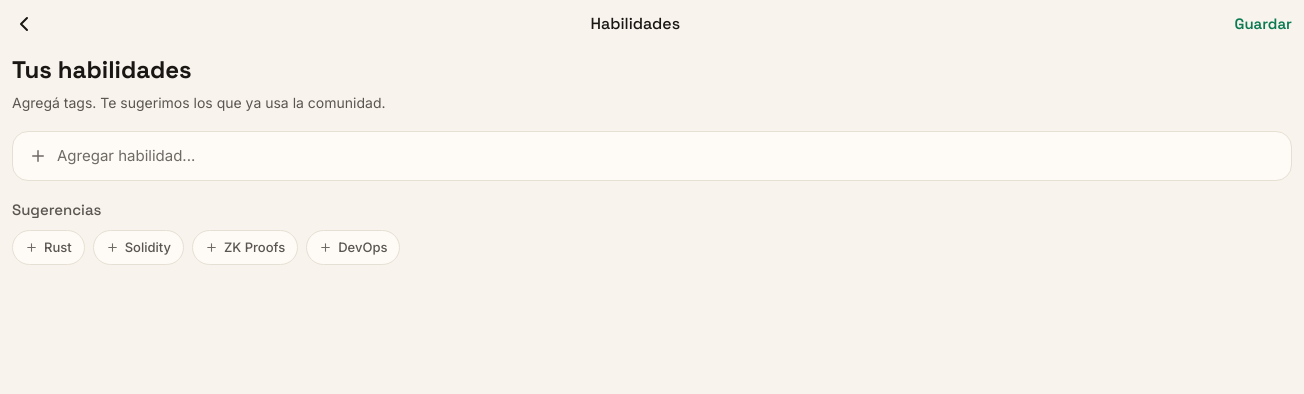
Test case: EditSkills › proposals (ZER-163) › confirms the proposal was sent
The image size is (1304, 394).
Type "Cerámica" into the field labelled "Agregar habilidad" at (666, 156), box [57,145,1275,167]
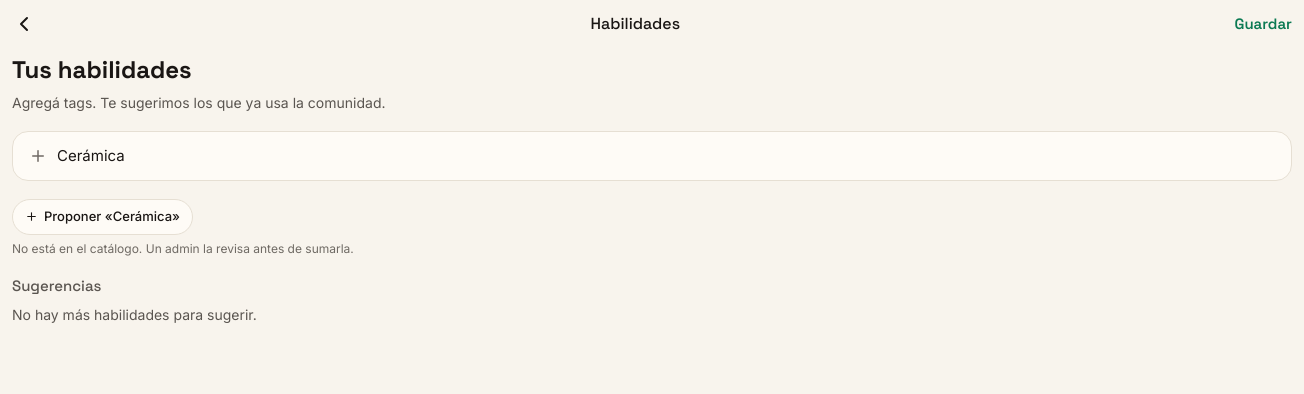
Click the button "Proponer «Cerámica»" at (102, 217), box [12,199,193,234]
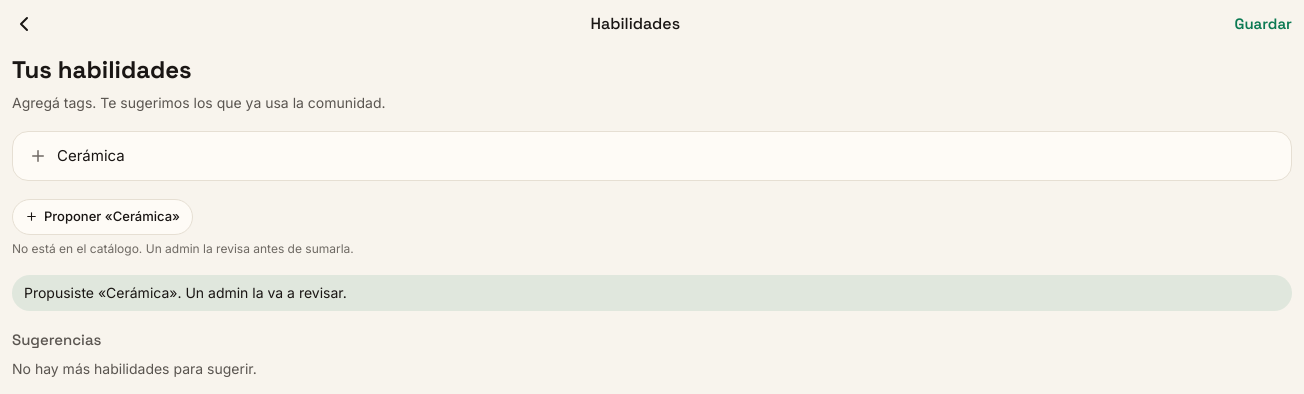
Expected: the message shows "Propusiste «Cerámica»", [24,284,347,300]
